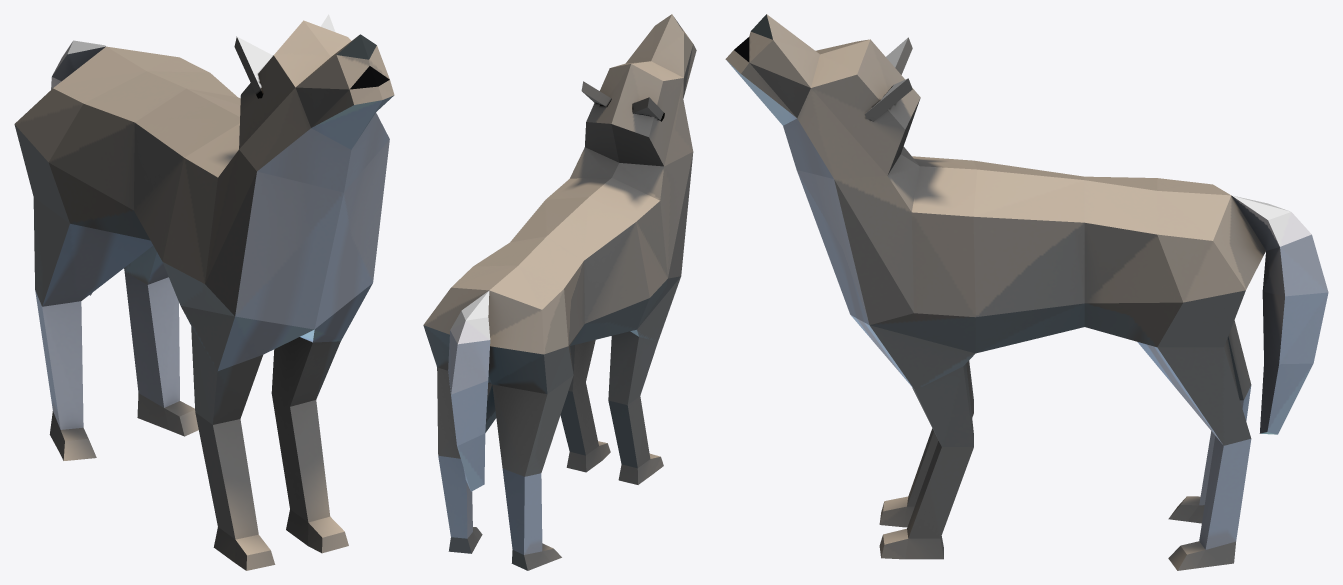
Rendered from PUSHILIN_wolf.gltf.
3 views of the same model, side by side, from view 1: azimuth 30°, elevation 25°; view 2: azimuth 150°, elevation 25°; view 3: azimuth 270°, elevation 25° (orthographic). The views are drawn at different scales.
Parts seen in each view (by area): view 1: node-0; view 2: node-0; view 3: node-0.
Boxes of the visible parts, box(x1,y1,x2,y2) form: node-0: box(14, 14, 394, 570); node-0: box(423, 14, 696, 570); node-0: box(725, 14, 1328, 570).
Bounding box in the file's own units: 0.5176 × 1.69 × 1.76.
1 material, 1 textured.
